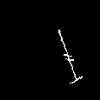treble_crochet: (59, 30, 82, 82)
